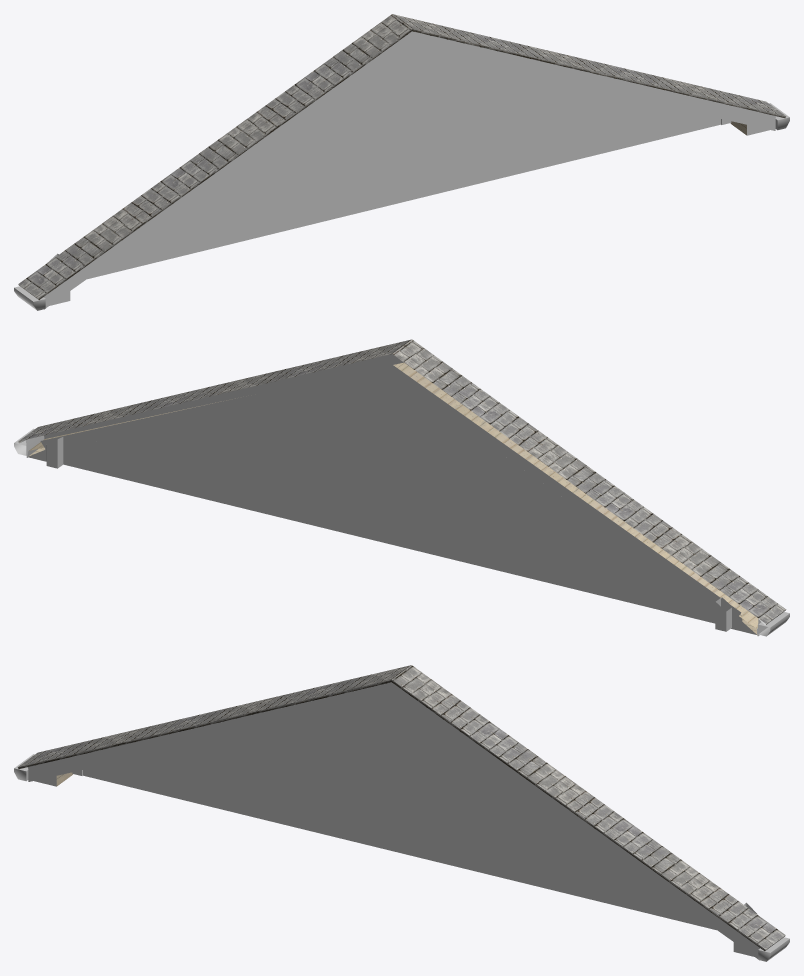
Rendered from RoofLow_End_8x.FBX.
3 renders of one model, top to bottom at view 1: azimuth 30°, elevation 25°; view 2: azimuth 150°, elevation 25°; view 3: azimuth 330°, elevation 25°, orthographic.
Visible parts, largest first — view 1: RoofLow_End_8x; view 2: RoofLow_End_8x; view 3: RoofLow_End_8x.
Boxes of the visible parts, <box> form: RoofLow_End_8x: <box>14,14,789,310</box>; RoofLow_End_8x: <box>14,339,789,636</box>; RoofLow_End_8x: <box>14,665,789,961</box>.
Bounding box in the file's own units: 894 × 218 × 52.41.
